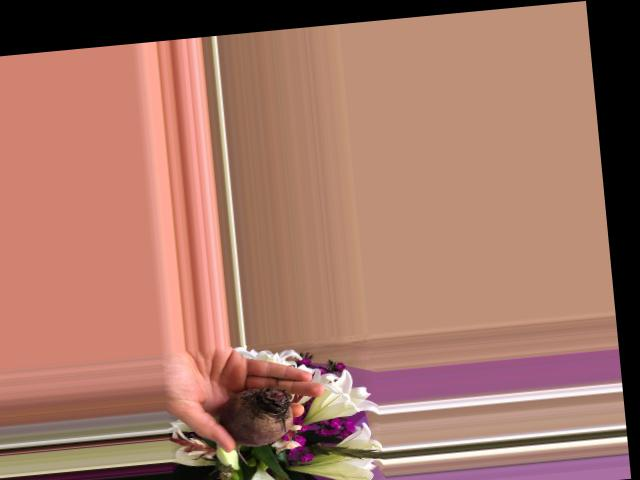beet: (216, 384, 297, 467)
